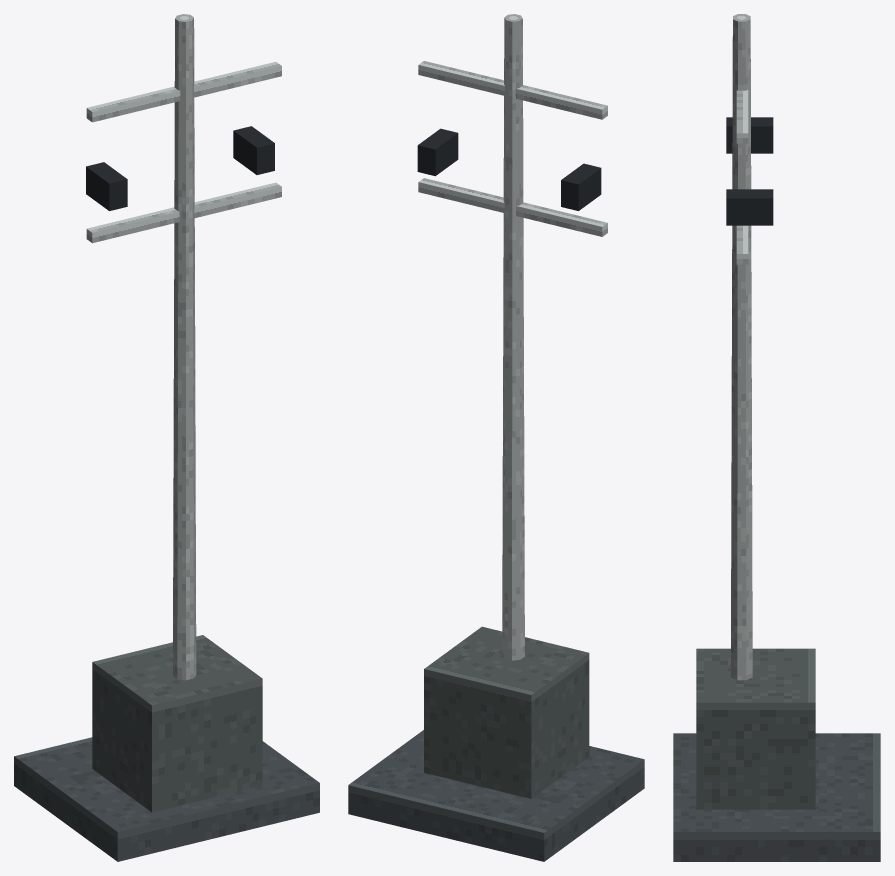
The model's file is f_exodii_locator_antenna.glb.
3 renders of one model, left to right at view 1: azimuth 30°, elevation 25°; view 2: azimuth 150°, elevation 25°; view 3: azimuth 270°, elevation 25°, orthographic. The views are drawn at different scales.
Parts seen in each view (by area): view 1: block_electronics-enclosure, block_antenna-mount, block_telescoping-antenna-mast, block_antenna-crosspiece (×2), block_antenna-cross-sensor (×2); view 2: block_electronics-enclosure, block_antenna-mount, block_telescoping-antenna-mast, block_antenna-crosspiece (×2), block_antenna-cross-sensor (×2); view 3: block_electronics-enclosure, block_antenna-mount, block_telescoping-antenna-mast, block_antenna-cross-sensor (×2), block_antenna-crosspiece (×2).
Part boxes in pixels (<box>): block_electronics-enclosure: <box>92,635,262,812</box>; block_antenna-mount: <box>14,737,319,861</box>; block_telescoping-antenna-mast: <box>173,14,196,680</box>; block_antenna-crosspiece (×2): <box>86,61,281,243</box>; block_antenna-cross-sensor (×2): <box>86,126,274,210</box>; block_electronics-enclosure: <box>424,626,589,798</box>; block_antenna-mount: <box>348,730,644,861</box>; block_telescoping-antenna-mast: <box>502,14,524,660</box>; block_antenna-crosspiece (×2): <box>418,61,607,236</box>; block_antenna-cross-sensor (×2): <box>417,128,601,210</box>; block_electronics-enclosure: <box>696,648,815,809</box>; block_antenna-mount: <box>673,733,880,861</box>; block_telescoping-antenna-mast: <box>731,14,752,680</box>; block_antenna-cross-sensor (×2): <box>726,117,773,225</box>; block_antenna-crosspiece (×2): <box>736,90,748,264</box>.
Bounding box in the file's own units: 0.63 × 2.37 × 0.56.
Materials: 1 (1 with a texture image).
